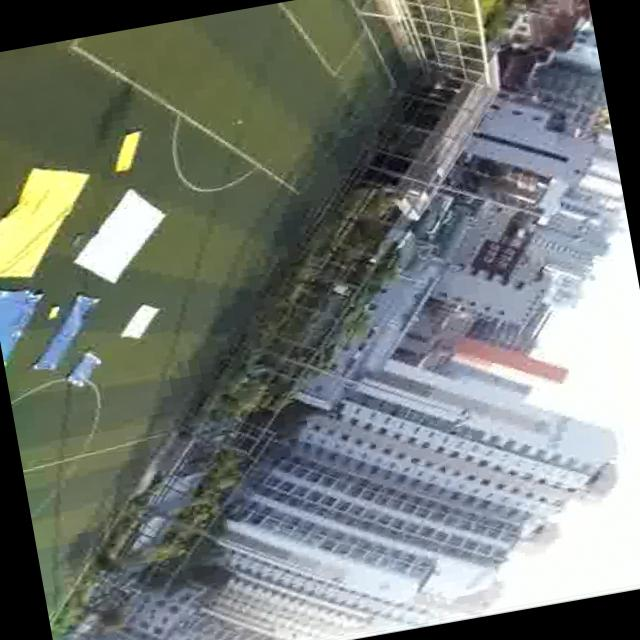danger: (0, 279, 48, 351), (59, 294, 100, 341), (65, 352, 106, 388)
safety: (76, 188, 174, 286), (110, 300, 168, 348)
warning: (0, 166, 71, 286), (96, 119, 155, 182)
